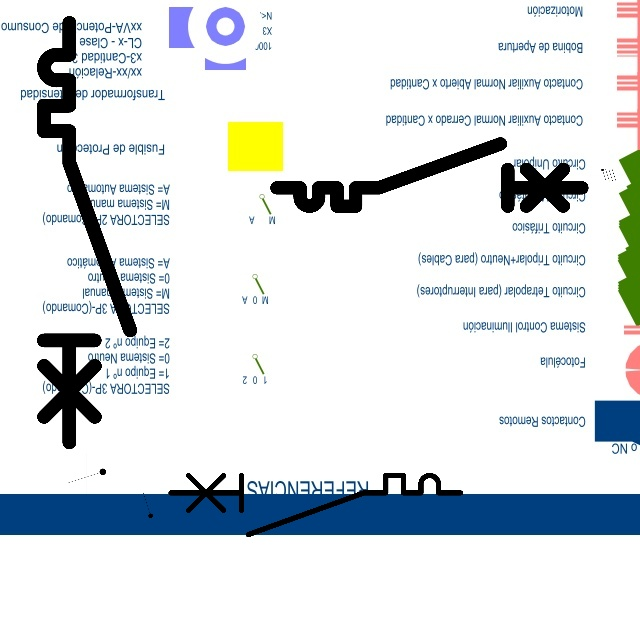interruptor_termomagnetico: (33, 12, 141, 453), (269, 136, 590, 214), (163, 468, 468, 542)
